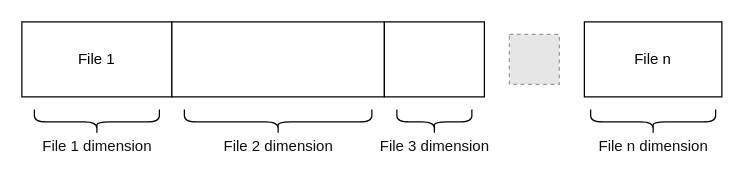
Some shapes in this 744 by 181 pixel diagram are drawn without their labels. Grey dashed boxes stand in for pictures. Here are the shapes that lost their labels. From the top down, the centre of each, then its label:
At point (277, 59): "File 2".
At point (433, 59): "File 3".
